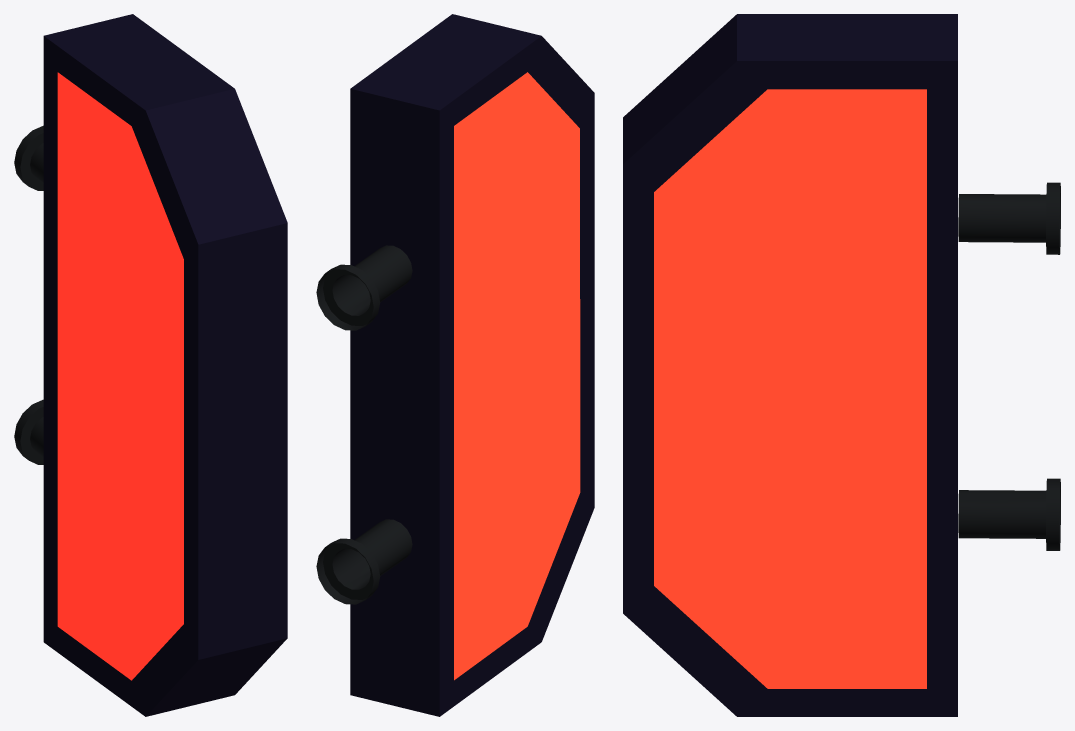
The model's file is BuilingSign_l.fbx.
3 renders of one model, left to right at view 1: azimuth 30°, elevation 25°; view 2: azimuth 150°, elevation 25°; view 3: azimuth 270°, elevation 25°, orthographic. The views are drawn at different scales.
Parts seen in each view (by area): view 1: Cube.033; view 2: Cube.033; view 3: Cube.033.
Boxes of the visible parts, x1,y1,x2,y2 form: Cube.033: [14, 14, 287, 716]; Cube.033: [316, 14, 594, 716]; Cube.033: [623, 14, 1060, 716].
Size of the model in its own units: 43.72 by 172 by 284.
